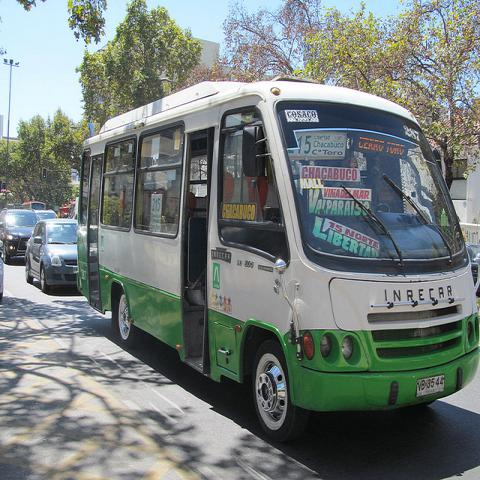bus: (76, 81, 480, 443)
car: (22, 220, 79, 294), (0, 211, 39, 262), (464, 242, 479, 264)
